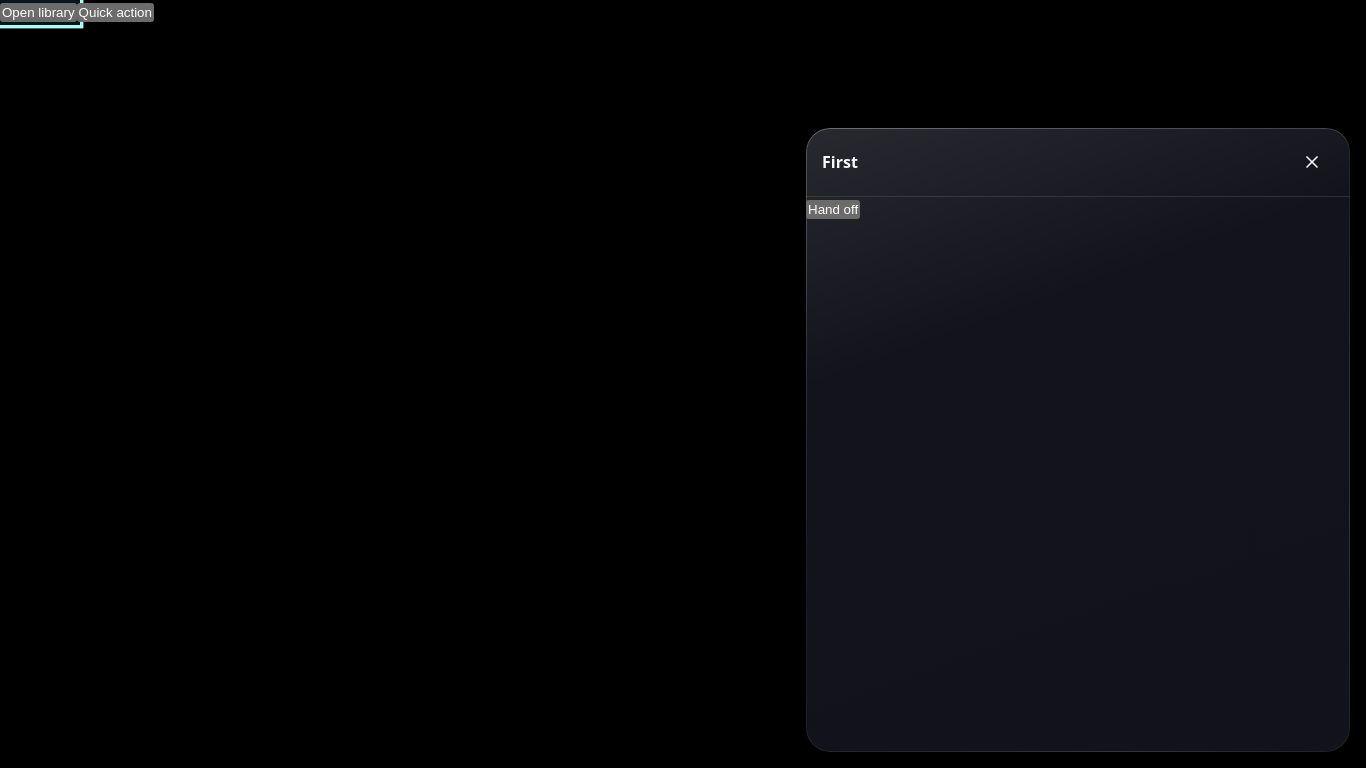
OverlaySheet › hands one modal sheet to another without a stale opener or a focus fight
Click the button "Hand off".
click(833, 210)  # box [806,200,860,219]
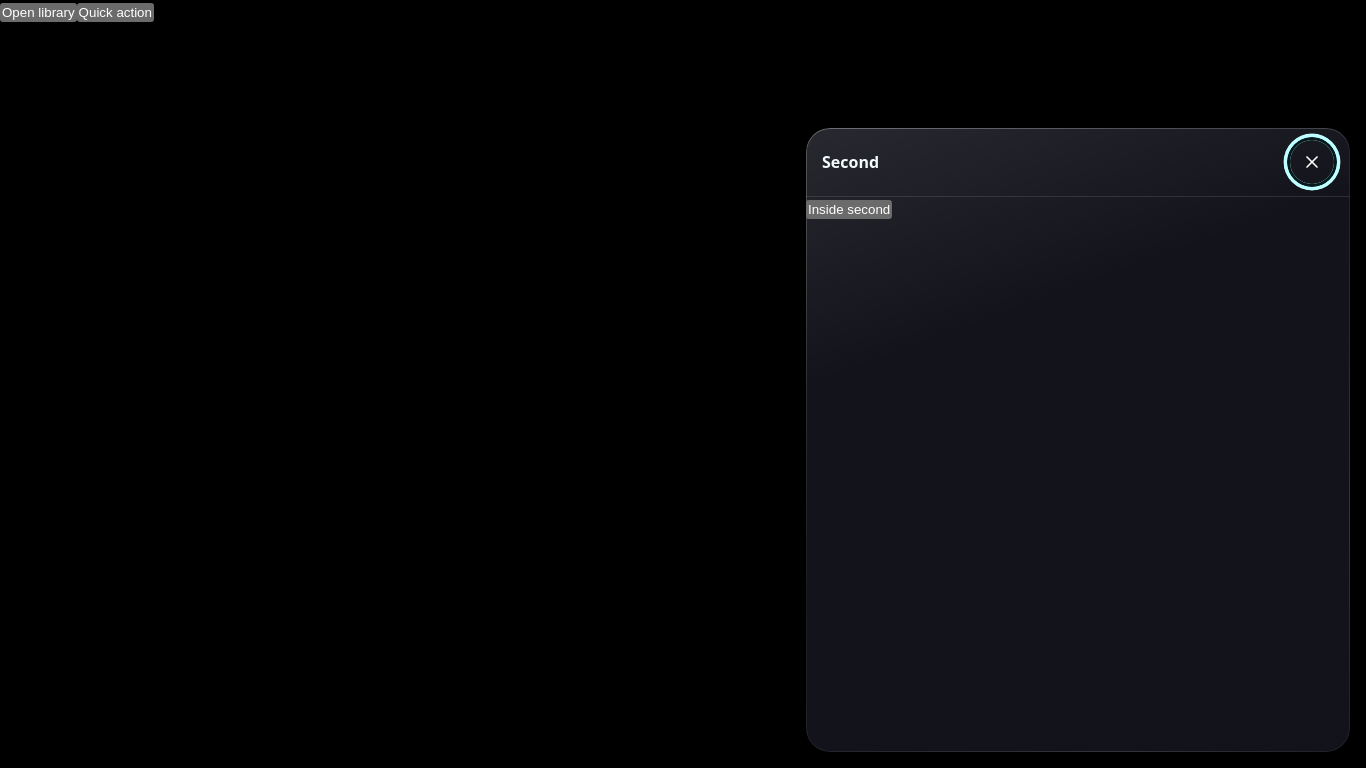
Expected: the number of dialogs is 1
Expected: the dialog is shown
Press Escape in the dialog, box [806,128,1350,752]
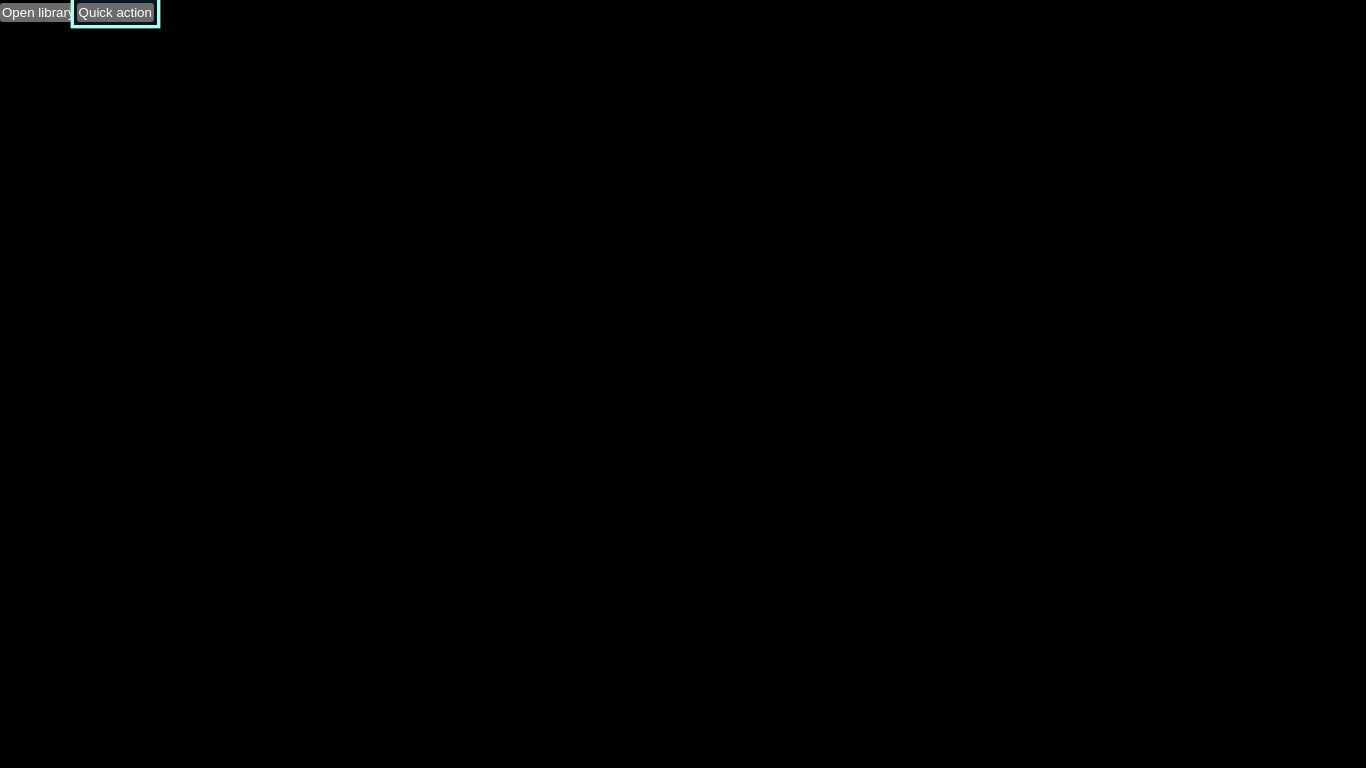
Expected: no dialogs are shown
